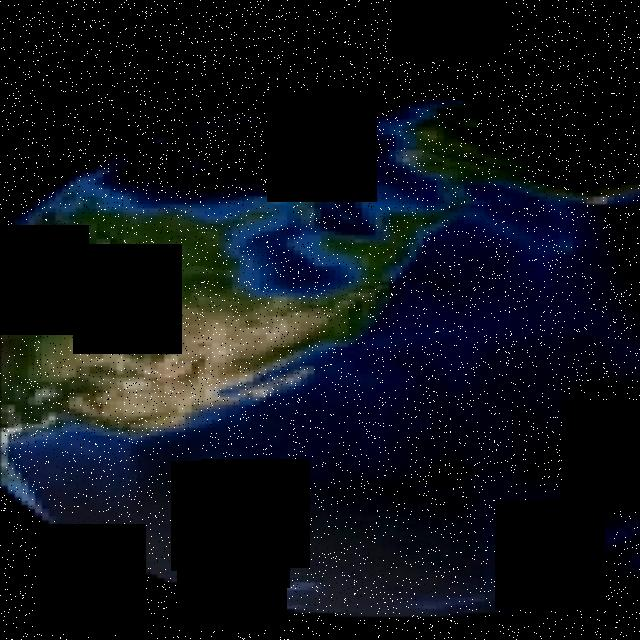Earth: (0, 92, 640, 624)
